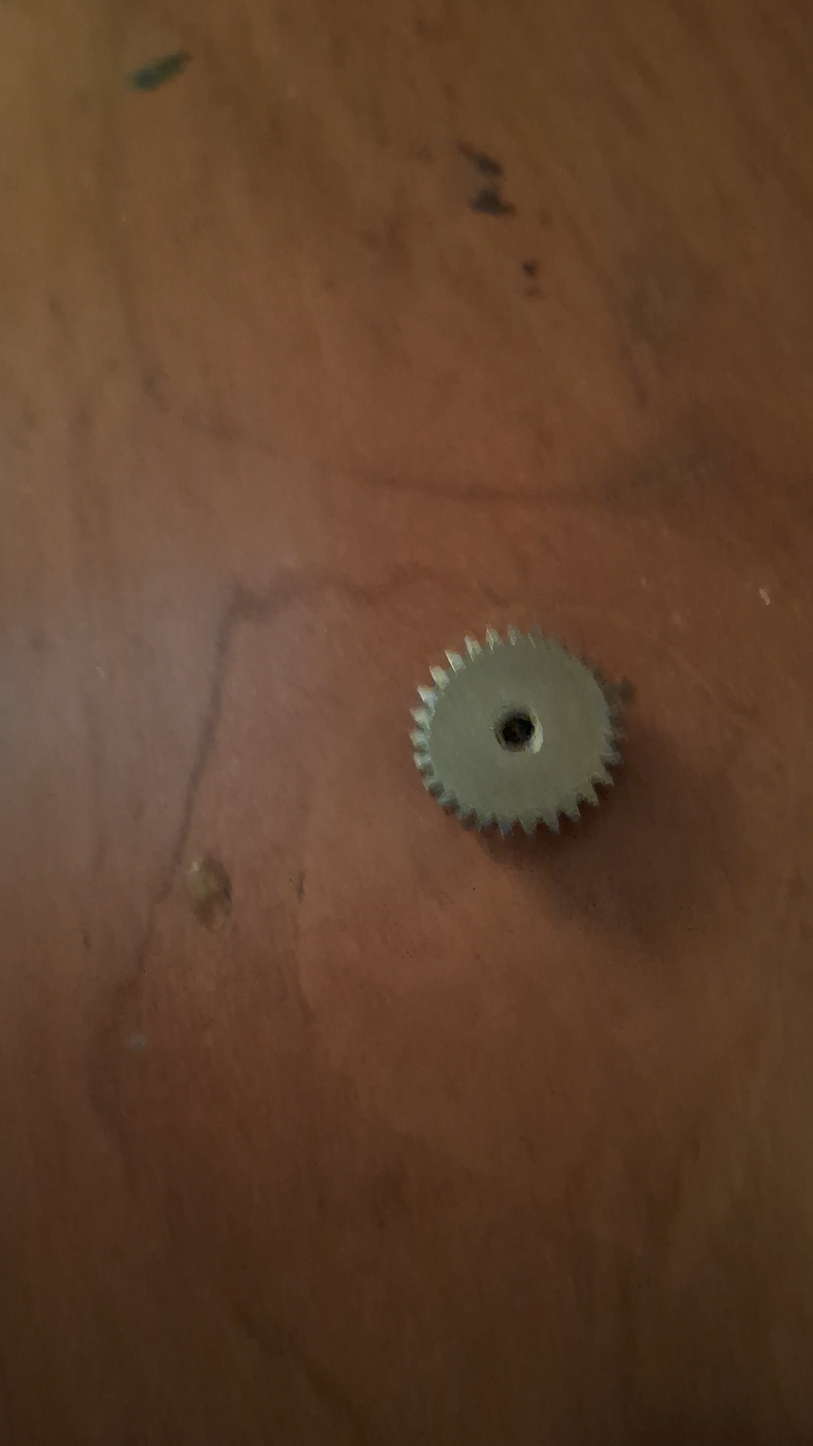spur gear: (411, 628, 619, 833)
